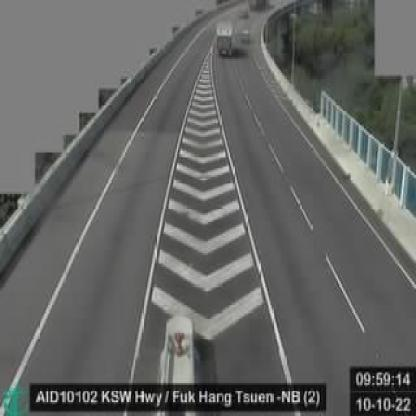Truck: (218, 25, 234, 56)
